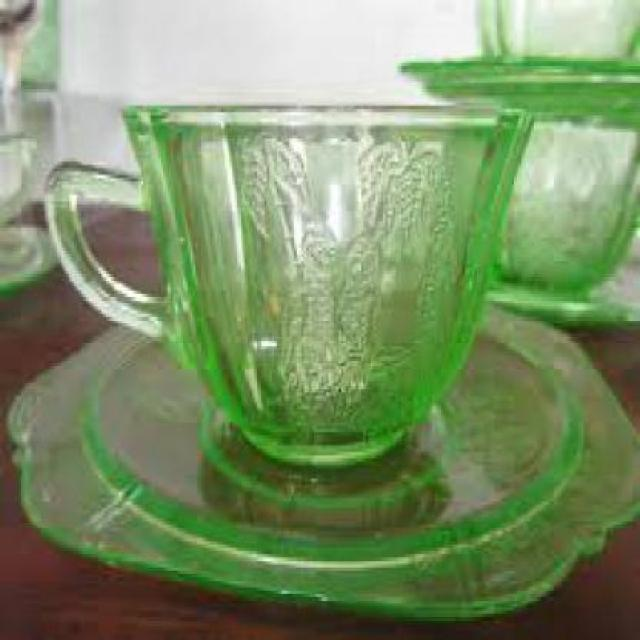kaca: (3, 297, 639, 620), (43, 103, 532, 469), (398, 52, 638, 291), (0, 0, 55, 284), (403, 57, 637, 106), (468, 0, 638, 60), (501, 265, 637, 320)
